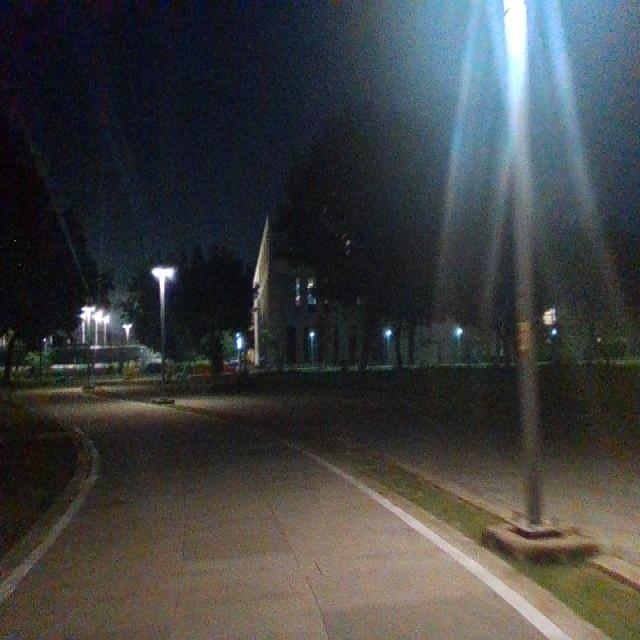lane: (0, 396, 551, 640)
